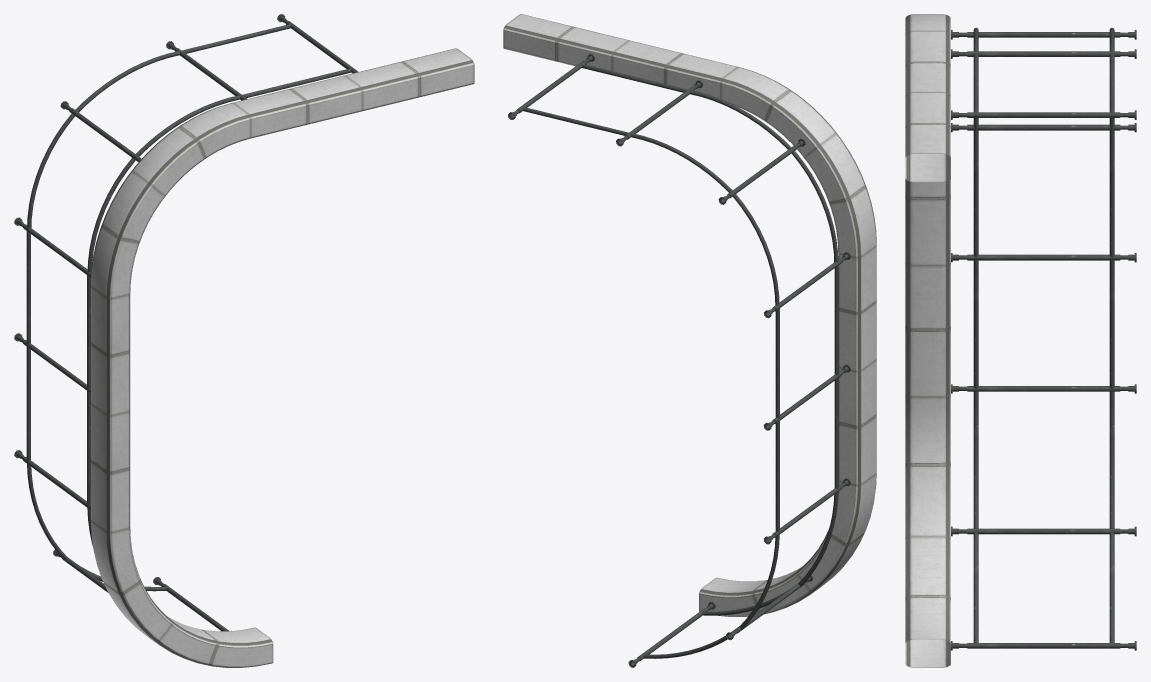
The model's file is Facade_Beam.FBX.
3 renders of one model, left to right at view 1: azimuth 30°, elevation 25°; view 2: azimuth 150°, elevation 25°; view 3: azimuth 270°, elevation 25°, orthographic. The views are drawn at different scales.
Parts seen in each view (by area): view 1: Facade_Beam; view 2: Facade_Beam; view 3: Facade_Beam.
Boxes of the visible parts, <box> form: Facade_Beam: <box>14,14,474,667</box>; Facade_Beam: <box>503,14,876,667</box>; Facade_Beam: <box>905,14,1136,667</box>.
Bounding box in the file's own units: 30.78 × 44.65 × 15.
